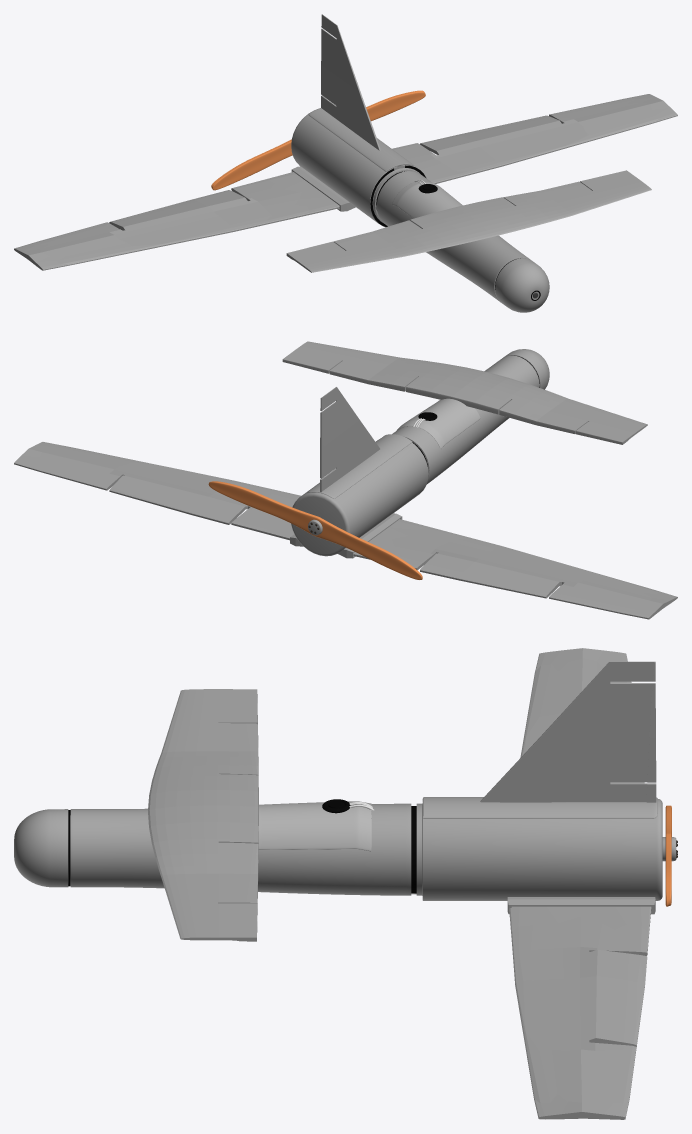
Rendered from bomber.glb.
3 views of the same model, one above another, from view 1: azimuth 30°, elevation 25°; view 2: azimuth 150°, elevation 25°; view 3: azimuth 270°, elevation 25° (orthographic). The views are drawn at different scales.
Parts seen in each view (by area): view 1: Circle.002, Circle.009, Circle.001, Circle.004, Circle.010; view 2: Circle.002, Circle.009, Circle.001, Circle.004, Circle.010; view 3: Circle.009, Circle.002, Circle.001, Circle.004, Circle.010.
Boxes of the visible parts, box(x1,y1,x2,y2) form: Circle.002: box(14, 94, 677, 270); Circle.009: box(211, 90, 549, 312); Circle.001: box(286, 170, 651, 272); Circle.004: box(321, 14, 380, 150); Circle.010: box(291, 166, 355, 211); Circle.002: box(14, 442, 677, 619); Circle.009: box(208, 349, 549, 579); Circle.001: box(282, 341, 647, 444); Circle.004: box(320, 387, 379, 492); Circle.010: box(290, 513, 402, 558); Circle.009: box(14, 797, 677, 906); Circle.002: box(509, 648, 651, 1119); Circle.001: box(148, 689, 258, 941); Circle.004: box(480, 661, 656, 802); Circle.010: box(507, 897, 655, 914).
Bounding box in the file's own units: 466 × 110 × 282.
